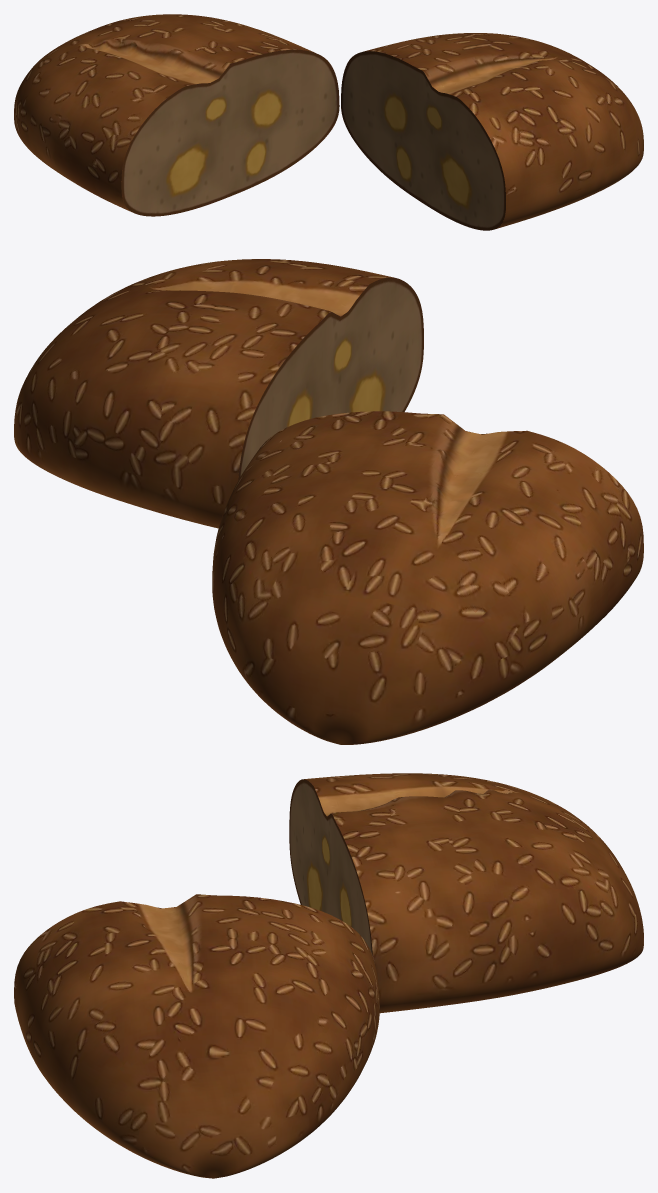
The model's file is rye--chestnut-flour.glb.
The picture shows the model from 3 angles, top to bottom: view 1: azimuth 30°, elevation 25°; view 2: azimuth 150°, elevation 25°; view 3: azimuth 270°, elevation 25°; orthographic projection. The views are drawn at different scales.
Visible parts, largest first — view 1: rye_chestnut-flour; view 2: rye_chestnut-flour; view 3: rye_chestnut-flour.
Boxes of the visible parts, x1,y1,x2,y2 form: rye_chestnut-flour: (14,14,643,230); rye_chestnut-flour: (14,259,643,744); rye_chestnut-flour: (14,773,643,1178).
Bounding box in the file's own units: 1.12 × 0.294 × 1.04.
1 material, 1 textured.
